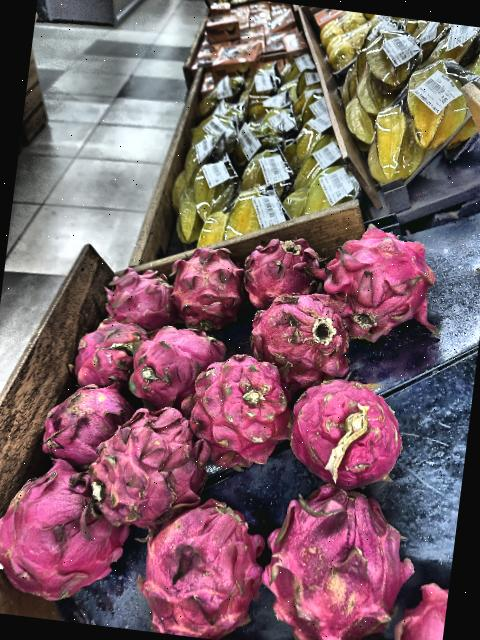buah-naga-belum-matang: (240, 484, 417, 640), (48, 375, 136, 478)
buah-naga-matang: (0, 457, 138, 607), (174, 336, 302, 486), (133, 498, 265, 640), (280, 374, 416, 502), (320, 222, 448, 351), (96, 400, 210, 534), (122, 320, 222, 408), (159, 240, 251, 332), (250, 292, 352, 371), (236, 233, 330, 317), (64, 313, 147, 397), (102, 265, 174, 334)
